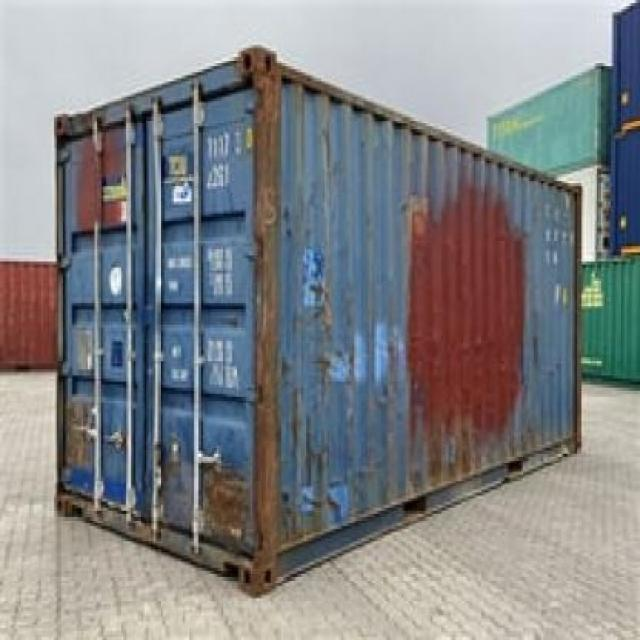Rust: (406, 170, 535, 475), (238, 45, 277, 599), (292, 386, 340, 512), (203, 467, 249, 556), (277, 491, 325, 560), (311, 359, 334, 386)
